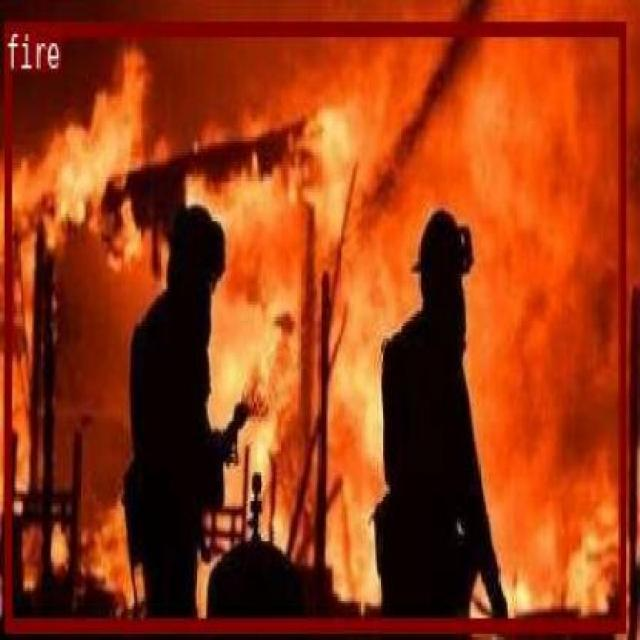Fire: (3, 20, 625, 628)
